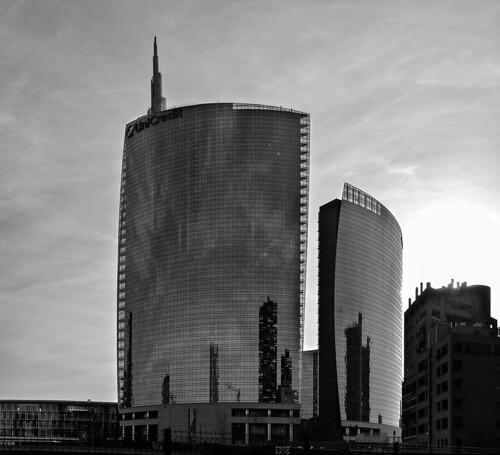building: (112, 98, 313, 432), (318, 179, 406, 451)
